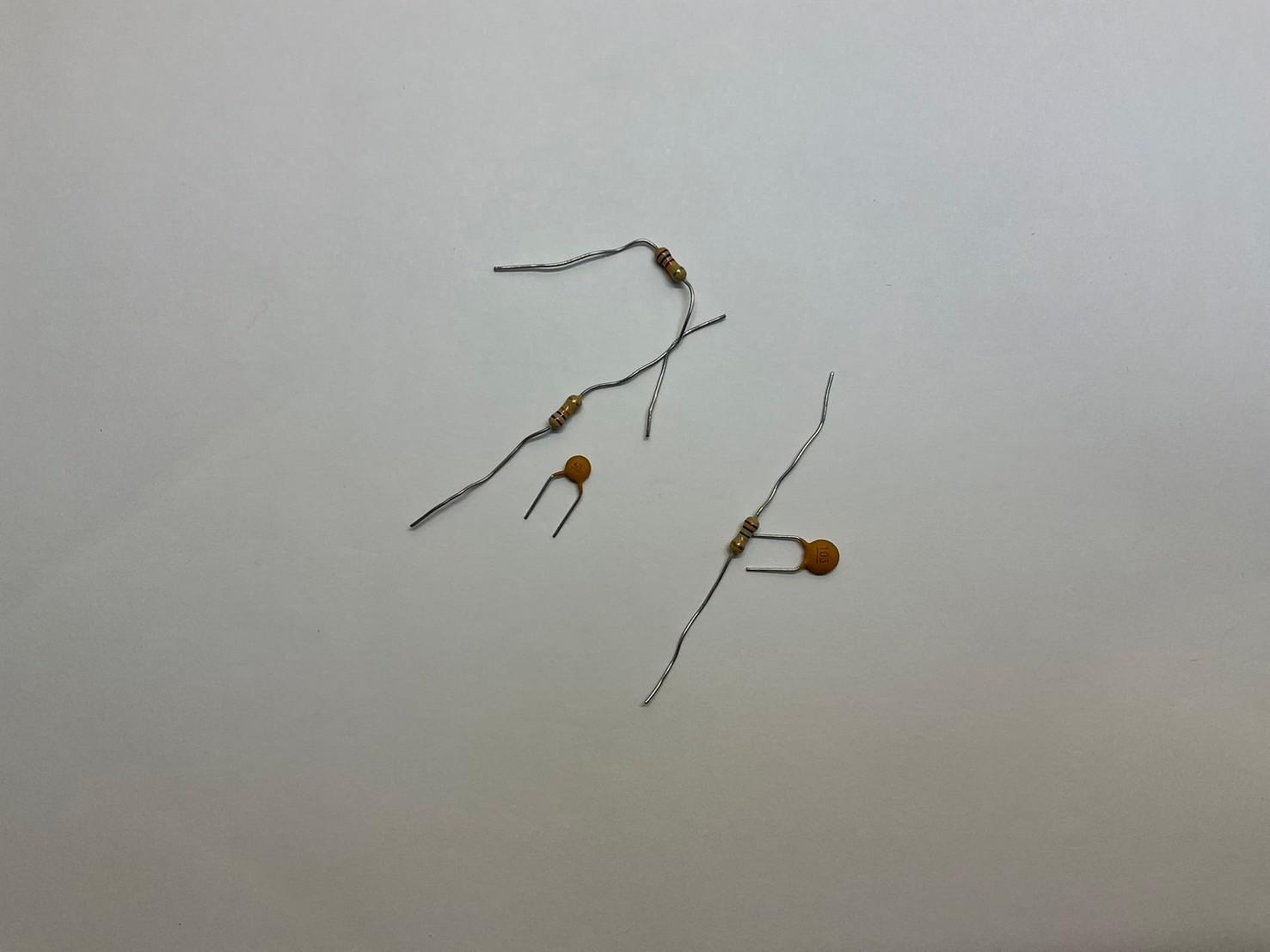resistor: (726, 516, 761, 557), (653, 245, 687, 284), (548, 394, 582, 430)
